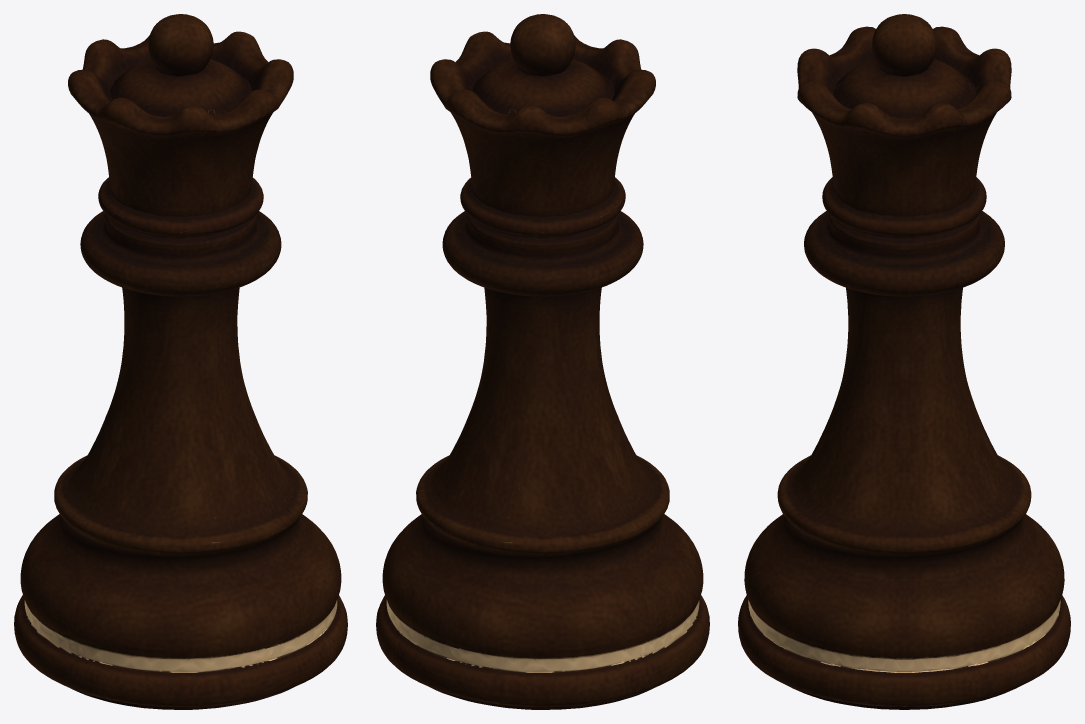
Rendered from 04_queen_dark.glb.
3 views of the same model, side by side, from view 1: azimuth 30°, elevation 25°; view 2: azimuth 150°, elevation 25°; view 3: azimuth 270°, elevation 25° (orthographic).
Parts seen in each view (by area): view 1: world; view 2: world; view 3: world.
Part boxes in pixels (x1,y1,x2,y2): world: [14, 14, 347, 709]; world: [376, 14, 709, 709]; world: [738, 14, 1070, 709].
Bounding box in the file's own units: 0.4807 × 1 × 0.4807.
Materials: 1 (1 with a texture image).
